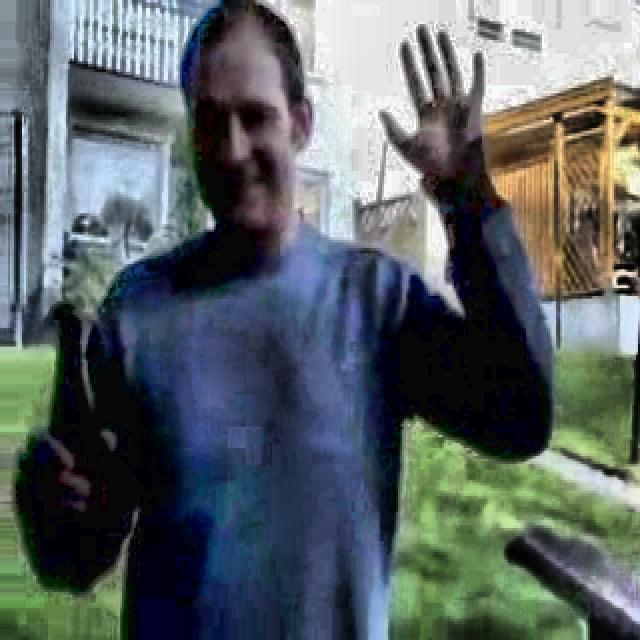L: (17, 5, 559, 637)
